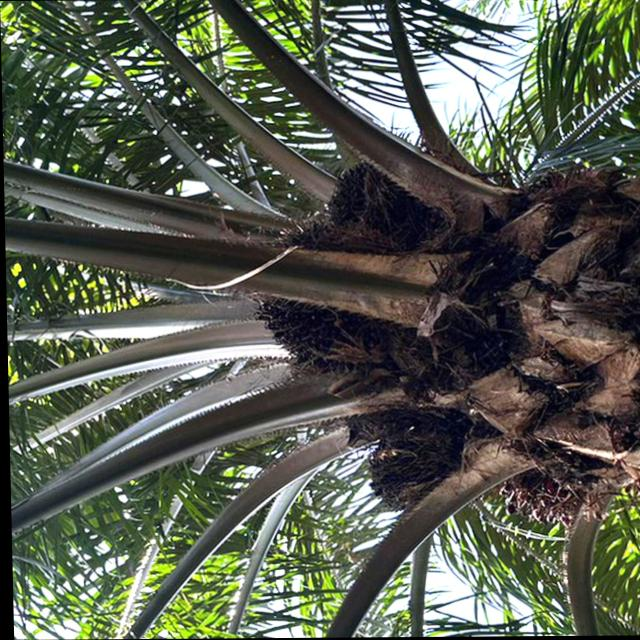ripe: (241, 202, 390, 398)
